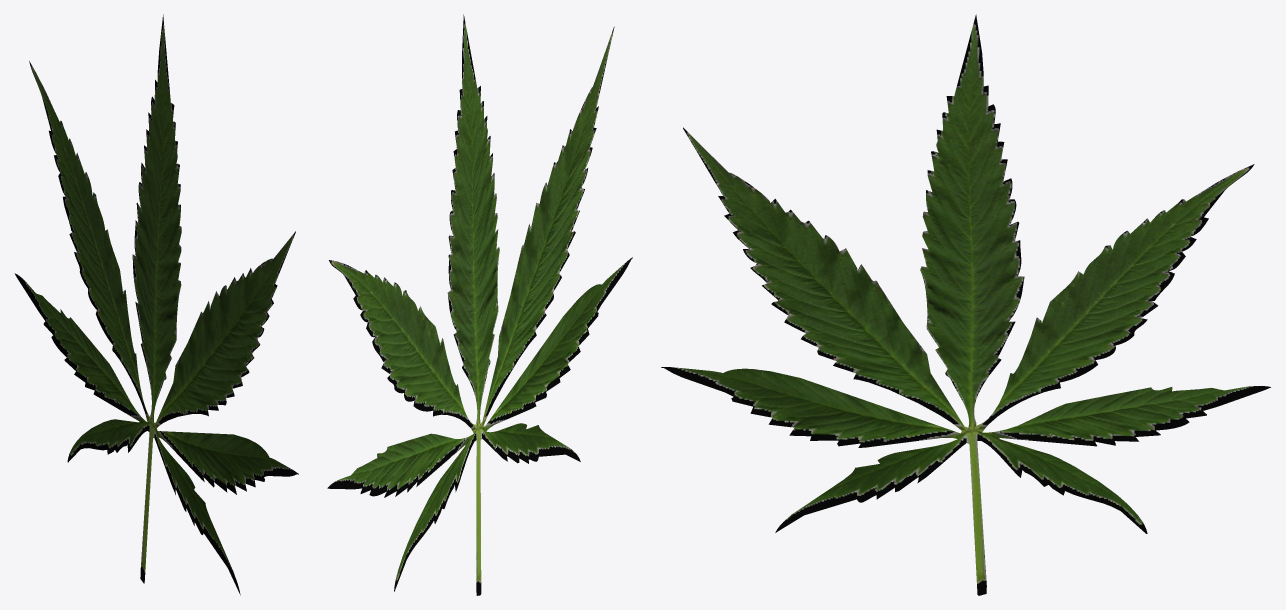
The model's file is daun-ganja.gltf.
The picture shows the model from 3 angles, left to right: view 1: azimuth 30°, elevation 25°; view 2: azimuth 150°, elevation 25°; view 3: azimuth 270°, elevation 25°; orthographic projection. The views are drawn at different scales.
Visible parts, largest first — view 1: Layer_0; view 2: Layer_0; view 3: Layer_0.
Part boxes in pixels (<box>): Layer_0: <box>14,14,298,595</box>; Layer_0: <box>327,14,632,595</box>; Layer_0: <box>661,14,1270,595</box>.
Bounding box in the file's own units: 0.0134 × 0.3843 × 0.3595.
2 materials, 2 textured.
